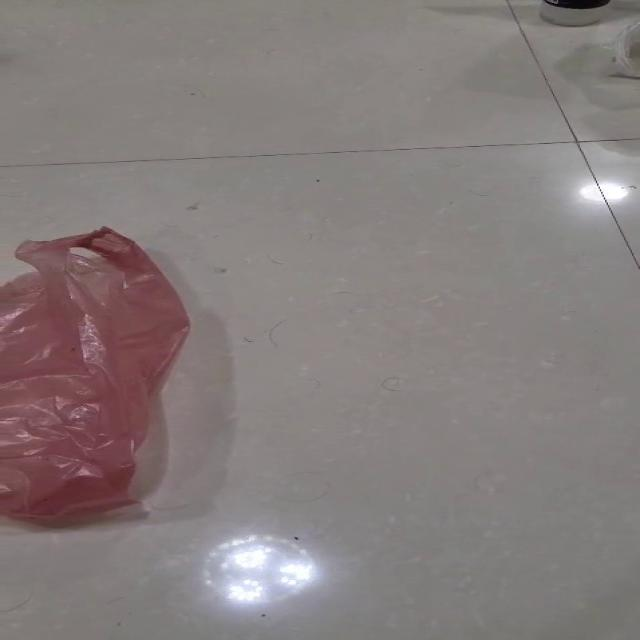plastic: (0, 224, 191, 522)
